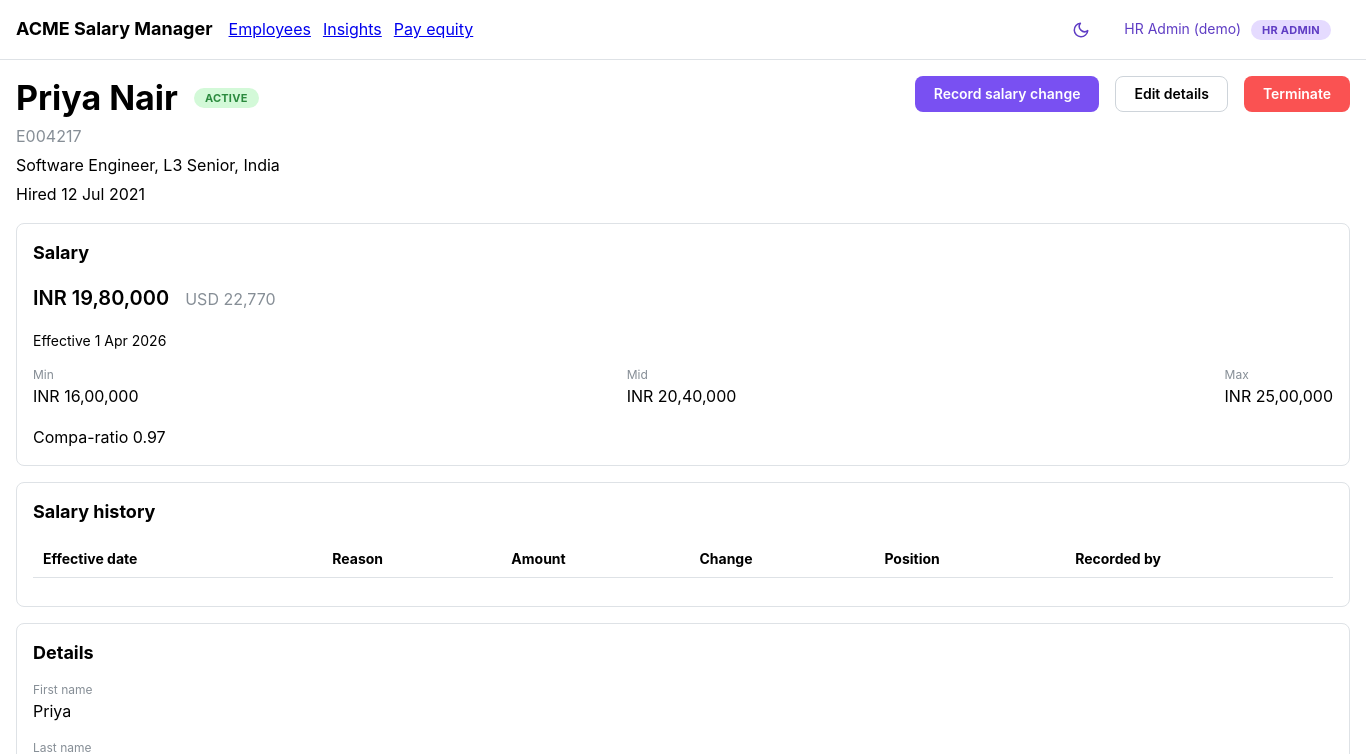
terminate modal (04 section 8.5 S-7) › terminating from the modal shows the terminated banner
Click the button "Terminate" at [1297, 94], box left=1244, top=76, right=1350, bottom=112
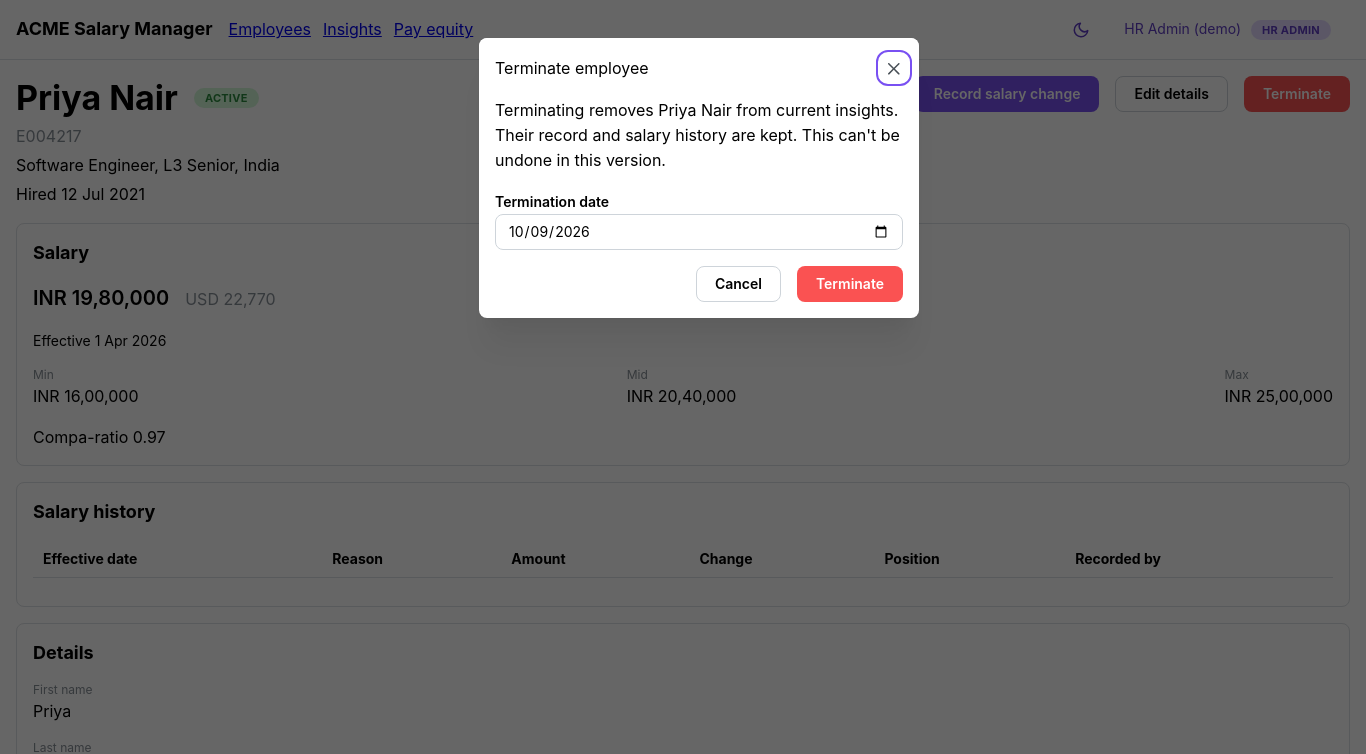
expect the text "Terminating removes Priya Nair from current insights. Their record and salary history are kept. This can't be undone in " is shown: met, box left=495, top=100, right=900, bottom=170
expect the date field labelled "Termination date" holds "2026-10-09": met, box left=495, top=214, right=903, bottom=250
Click the button "Terminate" at [850, 284], box left=797, top=266, right=903, bottom=302
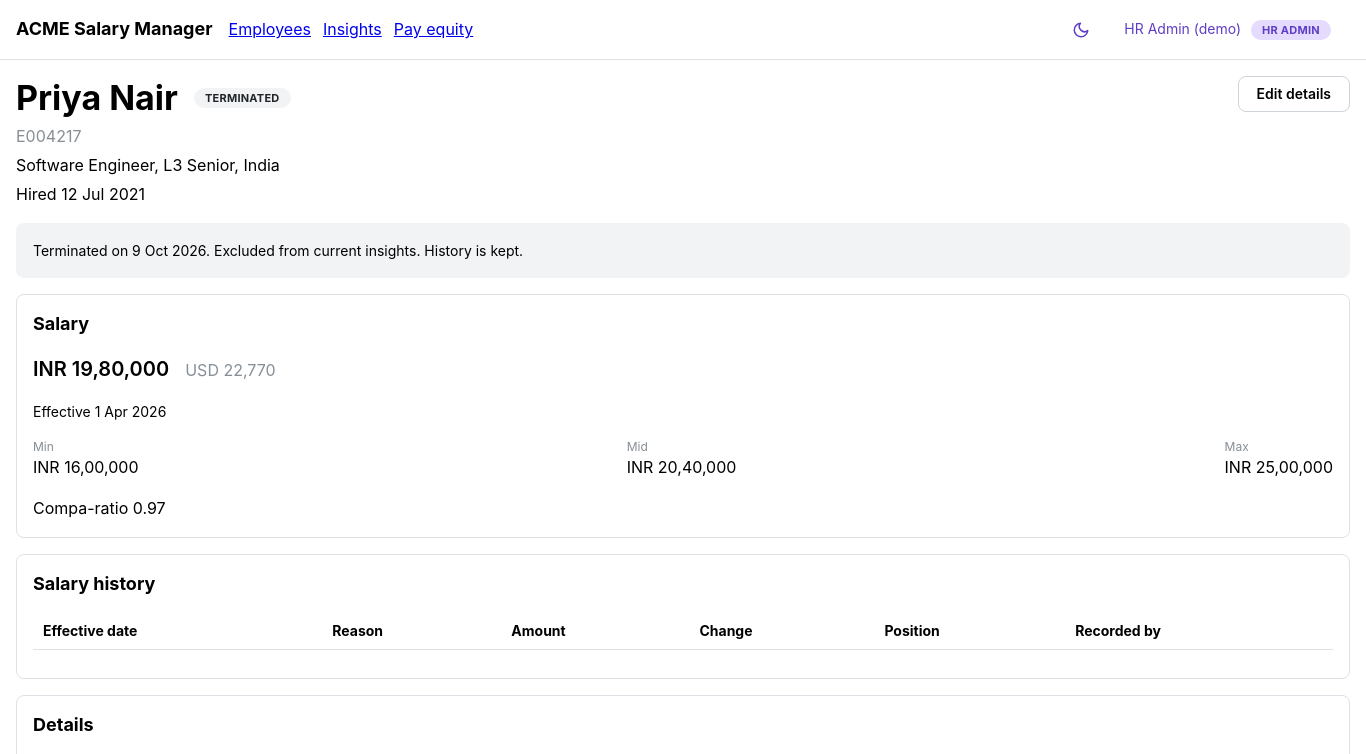
expect the text "Terminated on 9 Oct 2026. Excluded from current insights. History is kept." is shown: met, box left=33, top=242, right=523, bottom=259
